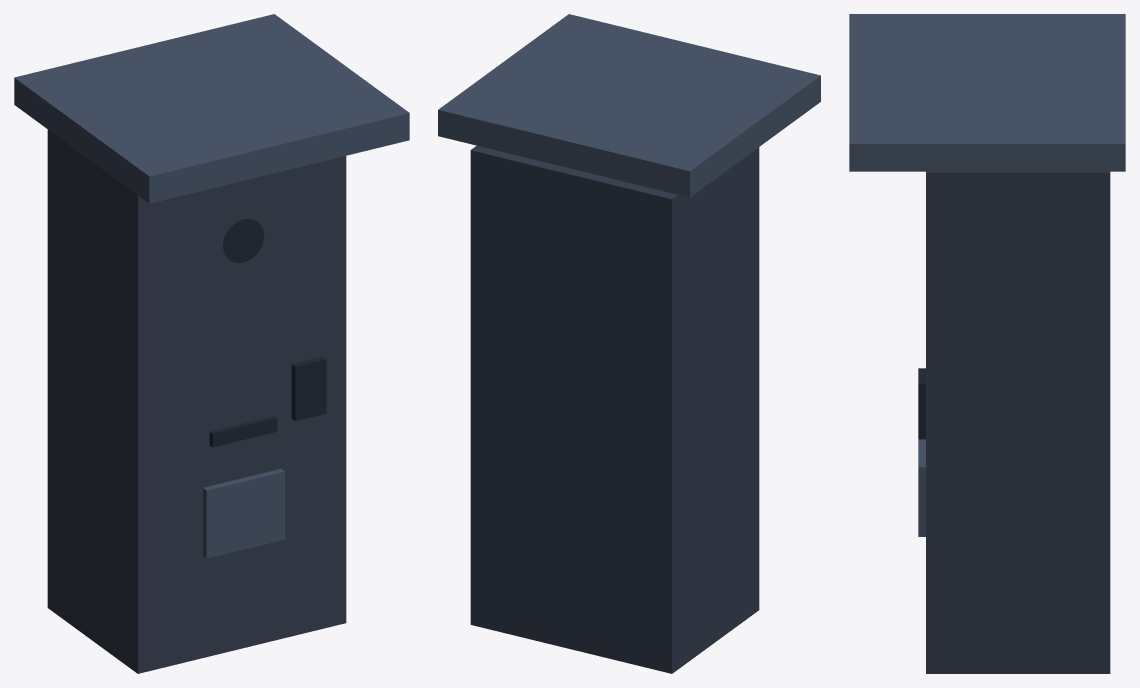
File: yard-scale-kiosk-body-authored-atlas.glb
3 renders of one model, left to right at view 1: azimuth 30°, elevation 25°; view 2: azimuth 150°, elevation 25°; view 3: azimuth 270°, elevation 25°, orthographic. The views are drawn at different scales.
Visible parts, largest first — view 1: Authored surface.030; view 2: Authored surface.030; view 3: Authored surface.030.
Part boxes in pixels (x1=…): Authored surface.030: x1=14, y1=14, x2=409, y2=673; Authored surface.030: x1=438, y1=14, x2=820, y2=673; Authored surface.030: x1=849, y1=14, x2=1125, y2=673.
Bounding box in the file's own units: 1 × 1.95 × 0.9.
1 material, 1 textured.
